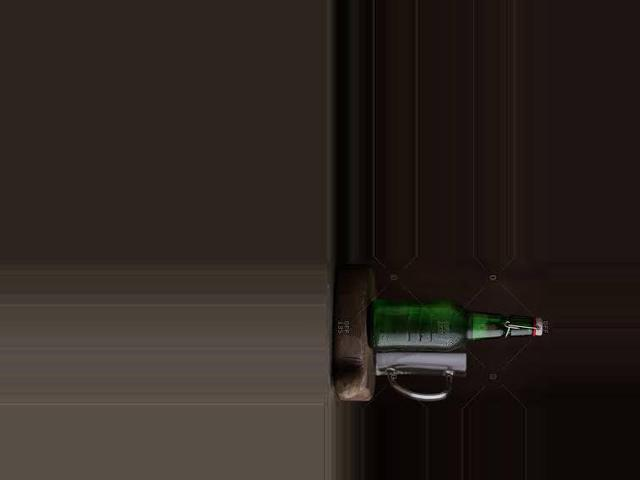beer: (367, 301, 542, 350)
